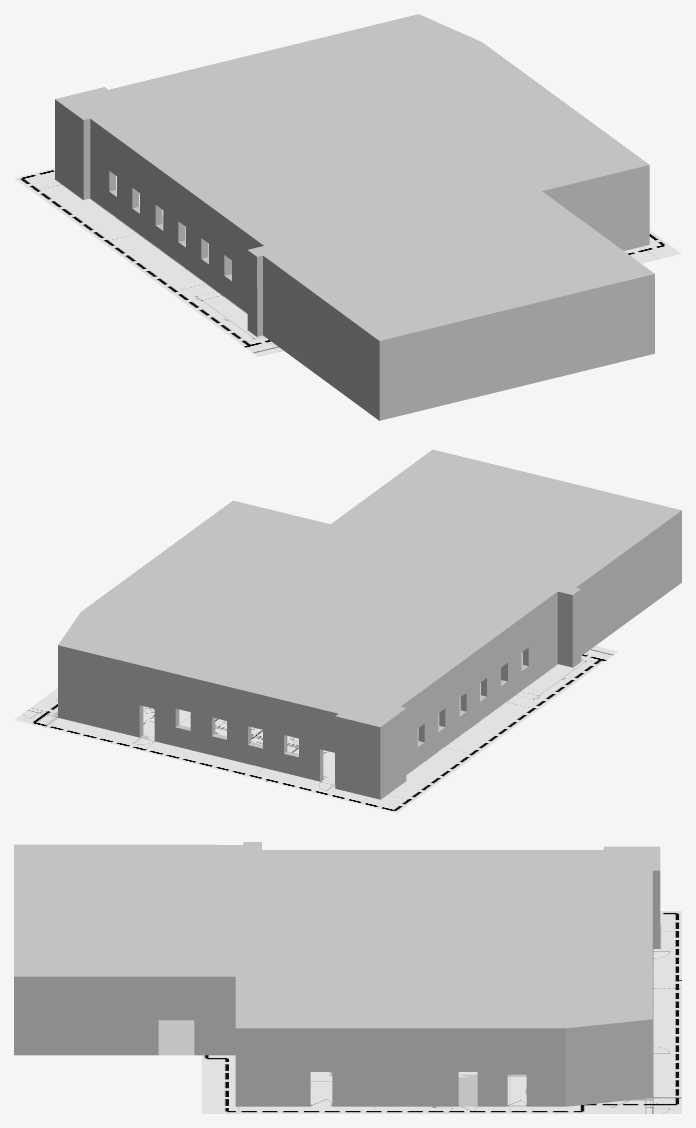
The model's file is env_cssBaltimoreShell01.FBX.
The picture shows the model from 3 angles, top to bottom: view 1: azimuth 30°, elevation 25°; view 2: azimuth 150°, elevation 25°; view 3: azimuth 270°, elevation 25°; orthographic projection. The views are drawn at different scales.
Parts seen in each view (by area): view 1: env_cssBaltimoreShell01, blueprint; view 2: env_cssBaltimoreShell01, blueprint; view 3: env_cssBaltimoreShell01, blueprint.
Part boxes in pixels (x1=…): env_cssBaltimoreShell01: x1=55, y1=14, x2=654, y2=420; blueprint: x1=14, y1=168, x2=681, y2=356; env_cssBaltimoreShell01: x1=58, y1=449, x2=681, y2=799; blueprint: x1=14, y1=646, x2=617, y2=813; env_cssBaltimoreShell01: x1=14, y1=842, x2=660, y2=1106; blueprint: x1=201, y1=911, x2=681, y2=1113.
Bounding box in the file's own units: 25.92 × 4.67 × 36.06.
